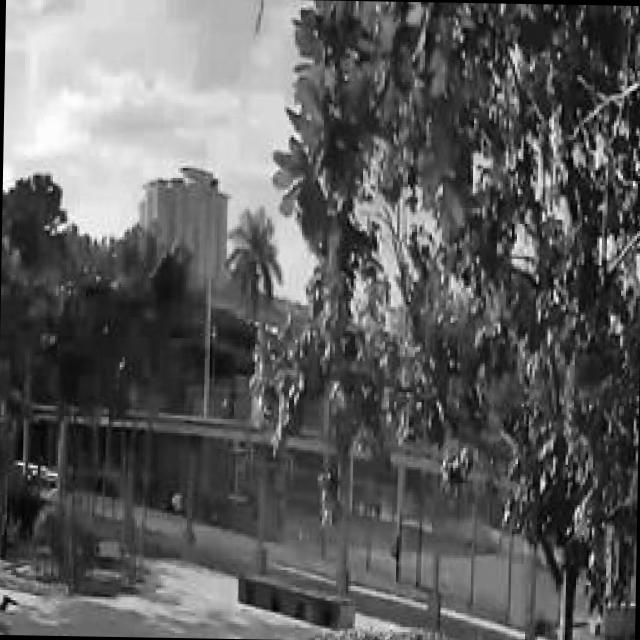Guns: (0, 578, 22, 626)
